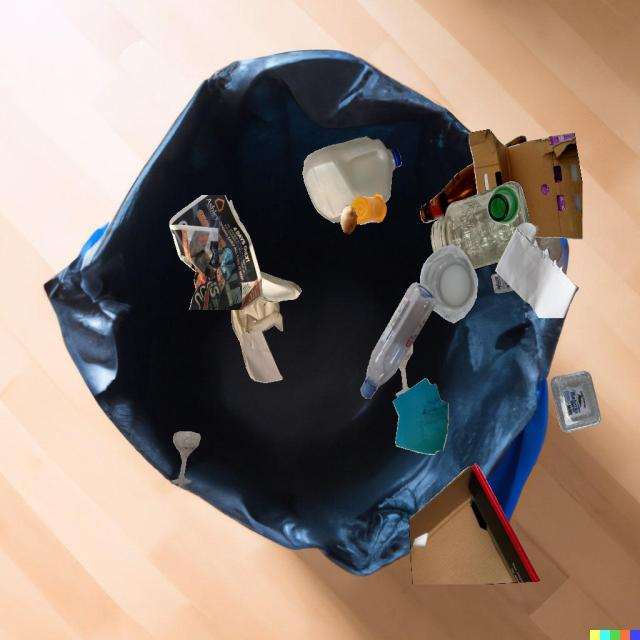biowaste: (340, 205, 357, 234)
cardboard: (409, 463, 540, 584), (469, 129, 582, 239)
glass: (430, 181, 530, 270), (420, 163, 477, 223), (171, 431, 201, 485), (487, 185, 519, 224), (395, 343, 413, 396), (535, 237, 562, 262)
paper: (169, 195, 263, 310), (495, 223, 578, 318), (231, 299, 283, 383), (393, 378, 448, 455), (259, 271, 302, 303)
plastic: (360, 282, 436, 398), (303, 136, 402, 223), (420, 244, 478, 323), (551, 371, 601, 432), (351, 193, 387, 224), (491, 273, 514, 293)
